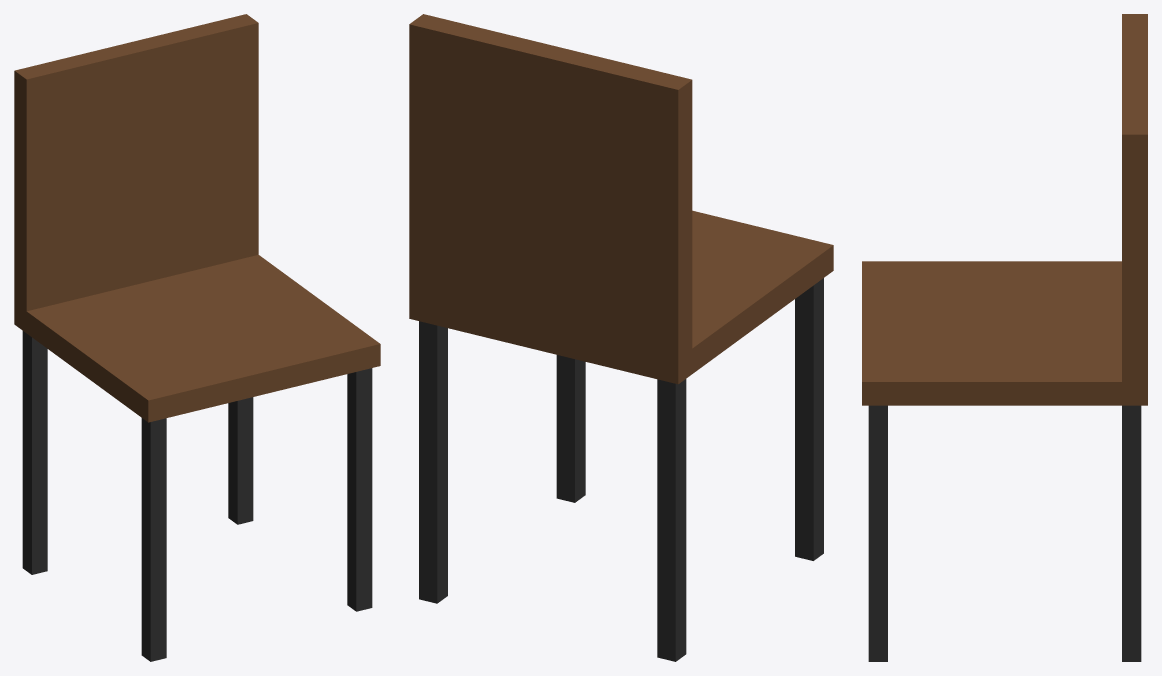
File: prop_chair.glb
3 renders of one model, left to right at view 1: azimuth 30°, elevation 25°; view 2: azimuth 150°, elevation 25°; view 3: azimuth 270°, elevation 25°, orthographic. The views are drawn at different scales.
Parts seen in each view (by area): view 1: prop_chair-col; view 2: prop_chair-col; view 3: prop_chair-col.
Part boxes in pixels (x1=…): prop_chair-col: x1=14, y1=14, x2=380, y2=661; prop_chair-col: x1=409, y1=14, x2=833, y2=661; prop_chair-col: x1=862, y1=14, x2=1147, y2=661.
Bounding box in the file's own units: 0.44 × 0.9 × 0.44.
